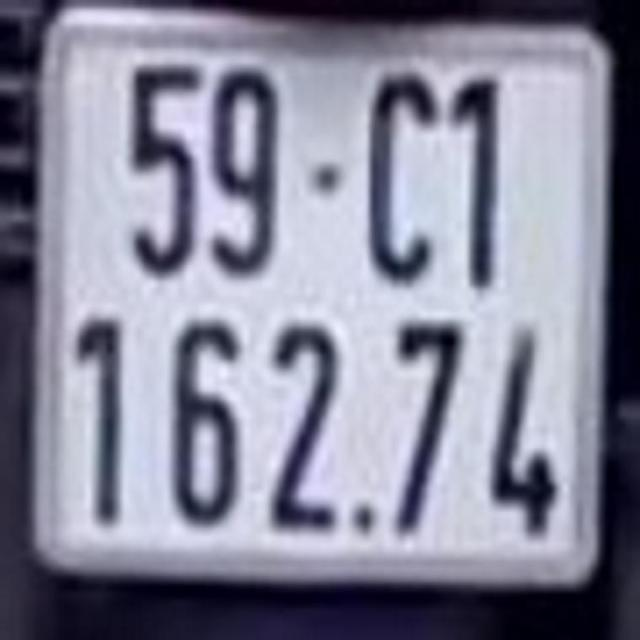1: (448, 71, 508, 288), (74, 312, 125, 523)
2: (272, 316, 338, 527)
4: (482, 310, 561, 540)
5: (127, 61, 196, 274)
6: (158, 314, 240, 528)
7: (389, 308, 460, 535)
9: (213, 62, 278, 272)
C: (364, 59, 438, 287)
